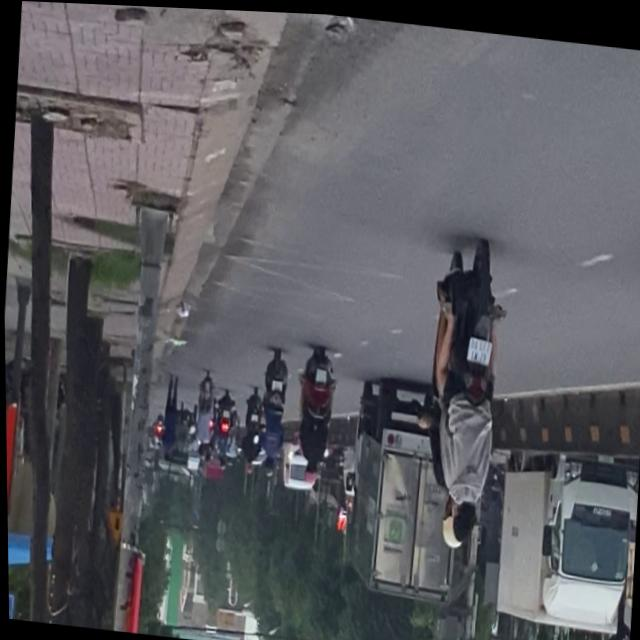helmet: (439, 496, 464, 545)
licenseplate: (411, 233, 516, 553)
motorcyclist: (449, 495, 477, 544)
nohelmet: (465, 334, 492, 363)
